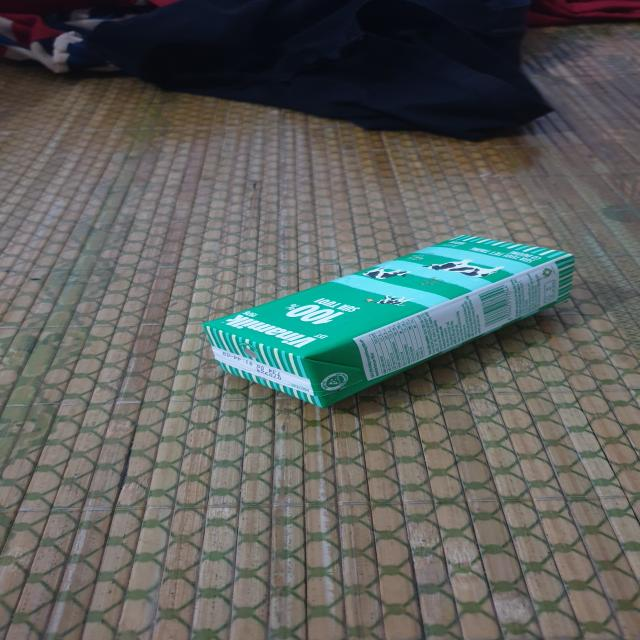Vina: (200, 229, 582, 413)
